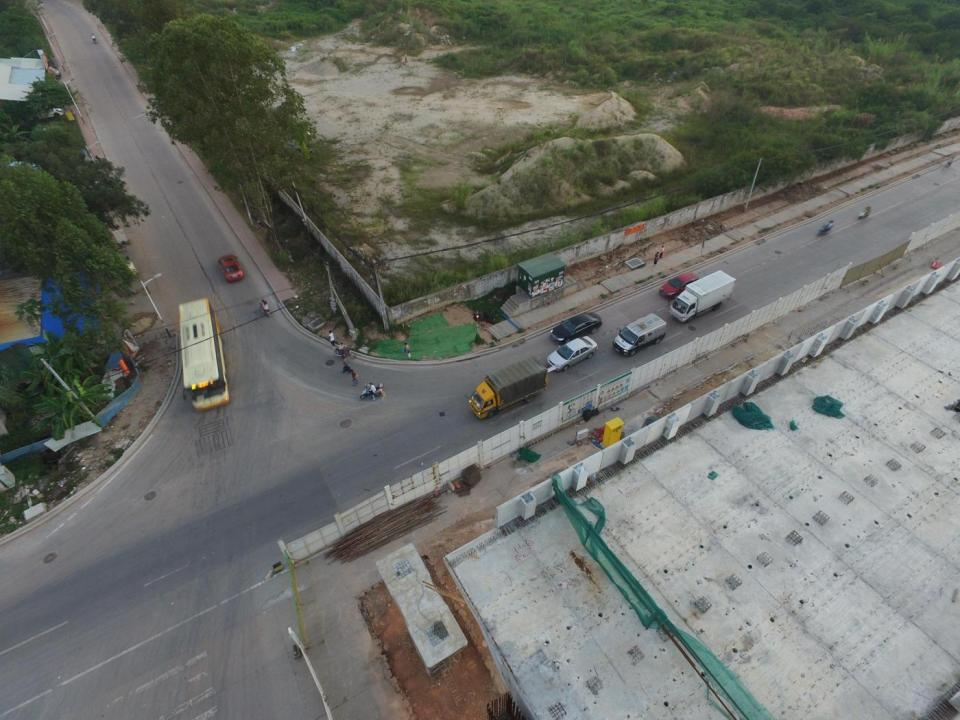bus: (177, 299, 230, 412)
car: (547, 336, 597, 372), (551, 313, 599, 344), (662, 272, 700, 302), (26, 100, 62, 121), (219, 255, 241, 283)
truck: (468, 359, 551, 418), (669, 268, 735, 323)
van: (615, 314, 668, 356)
